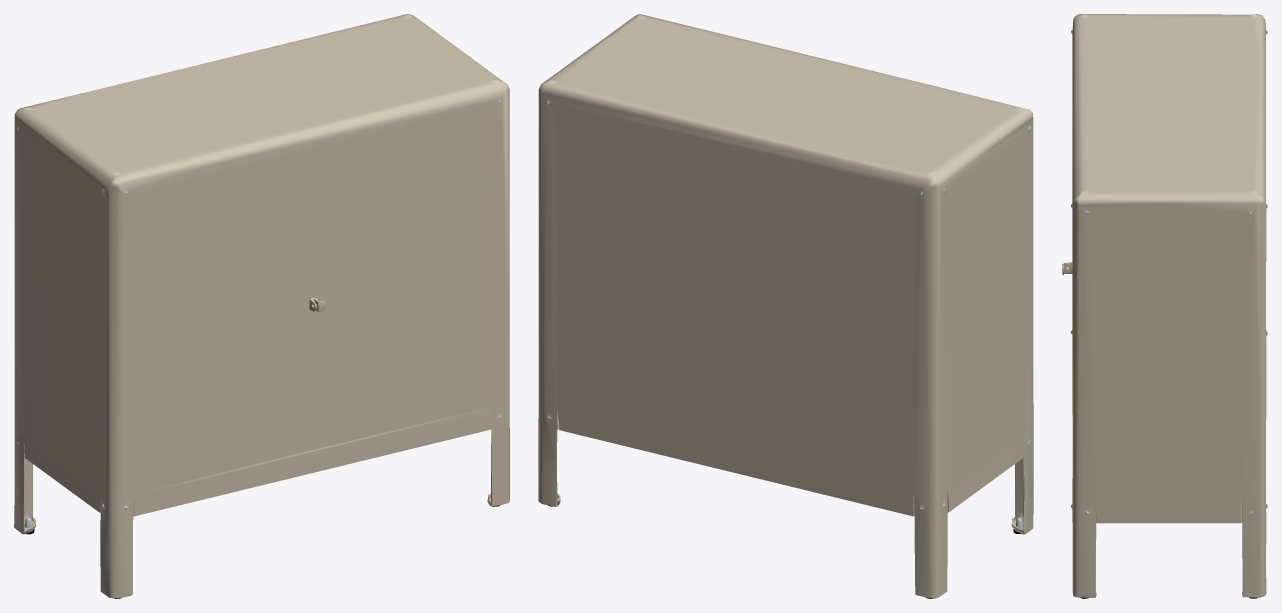
Rendered from kolbjorn_szafka_wew_zew_30409295.glb.
The picture shows the model from 3 angles, left to right: view 1: azimuth 30°, elevation 25°; view 2: azimuth 150°, elevation 25°; view 3: azimuth 270°, elevation 25°; orthographic projection. The views are drawn at different scales.
Visible parts, largest first — view 1: kolbjorn_szafka_wew_zew_30409295; view 2: kolbjorn_szafka_wew_zew_30409295; view 3: kolbjorn_szafka_wew_zew_30409295.
Boxes of the visible parts, box(x1,y1,x2,y2) form: kolbjorn_szafka_wew_zew_30409295: box(14, 14, 509, 598); kolbjorn_szafka_wew_zew_30409295: box(538, 14, 1033, 598); kolbjorn_szafka_wew_zew_30409295: box(1062, 14, 1267, 598).
Size of the model in its own units: 0.8068 by 0.8109 by 0.3721.
Materials: 1 (1 with a texture image).
